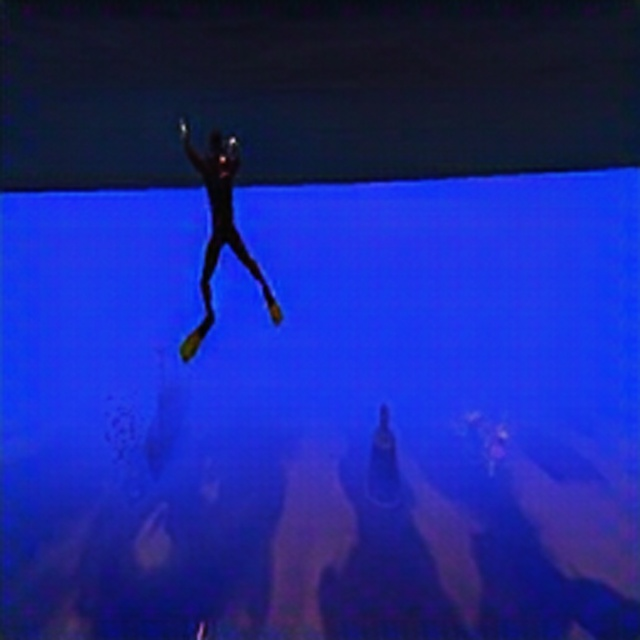diver: (178, 116, 283, 339)
